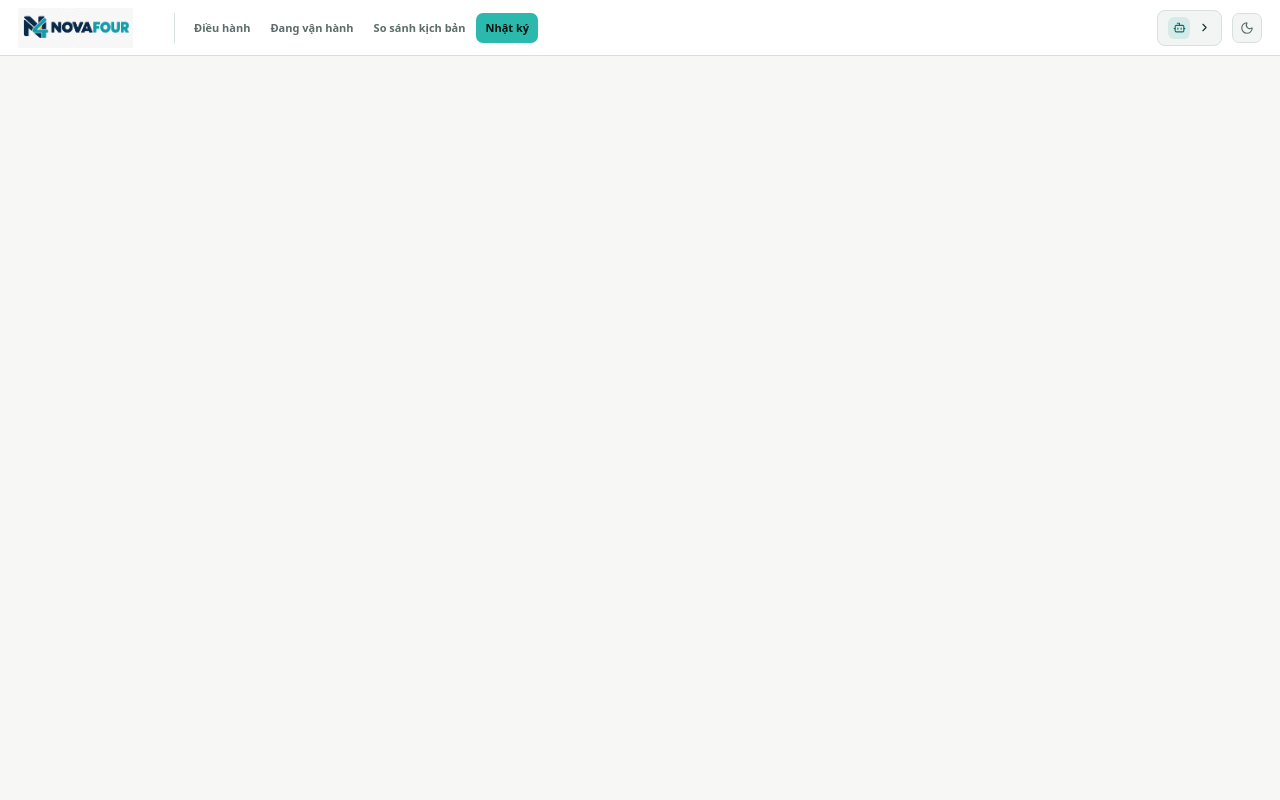
OperatorShell server clock › switches theme in place on workspace routes
Click the button named "giao diện tối".
click(1247, 28)  # box [1232,12,1262,42]
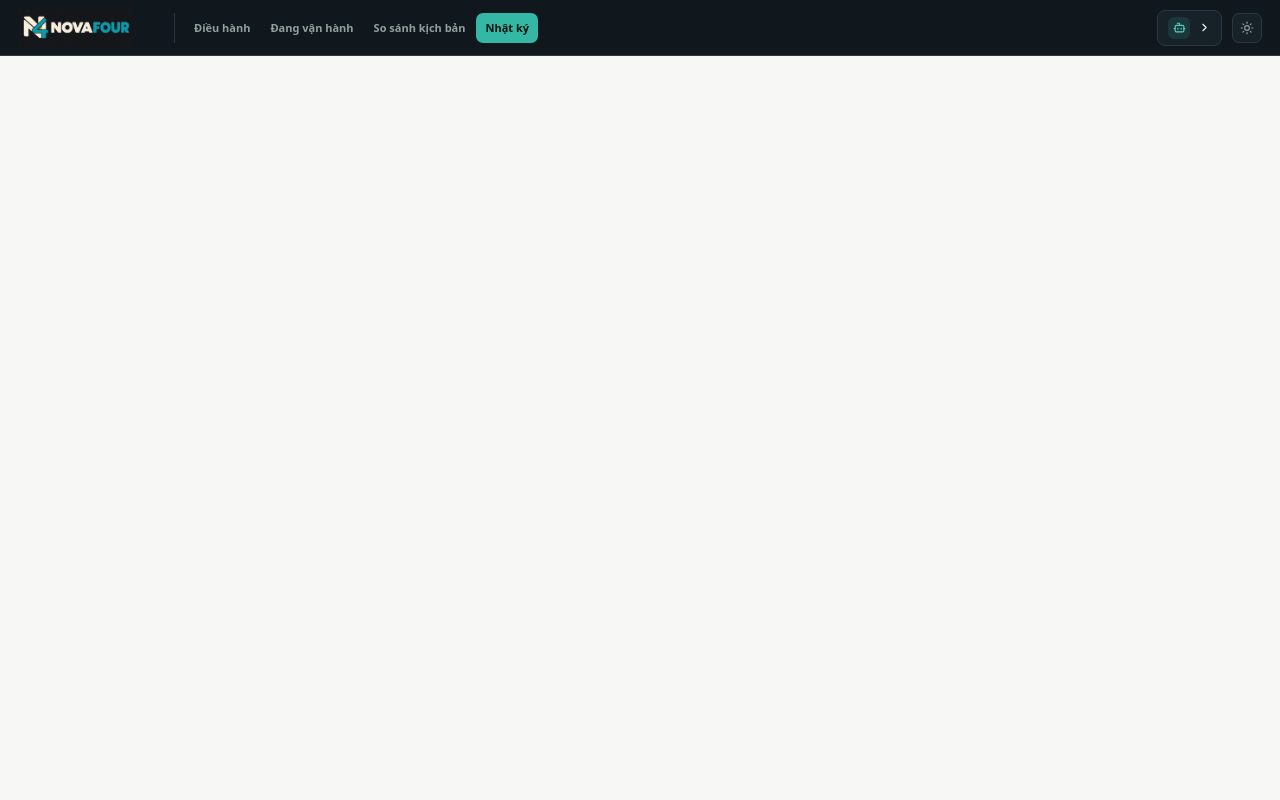
Expected: the button named "giao diện sáng" is shown, [1232,12,1262,42]
